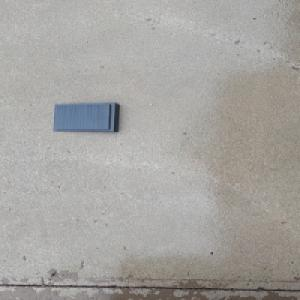PlasticPart: (51, 101, 121, 133)
